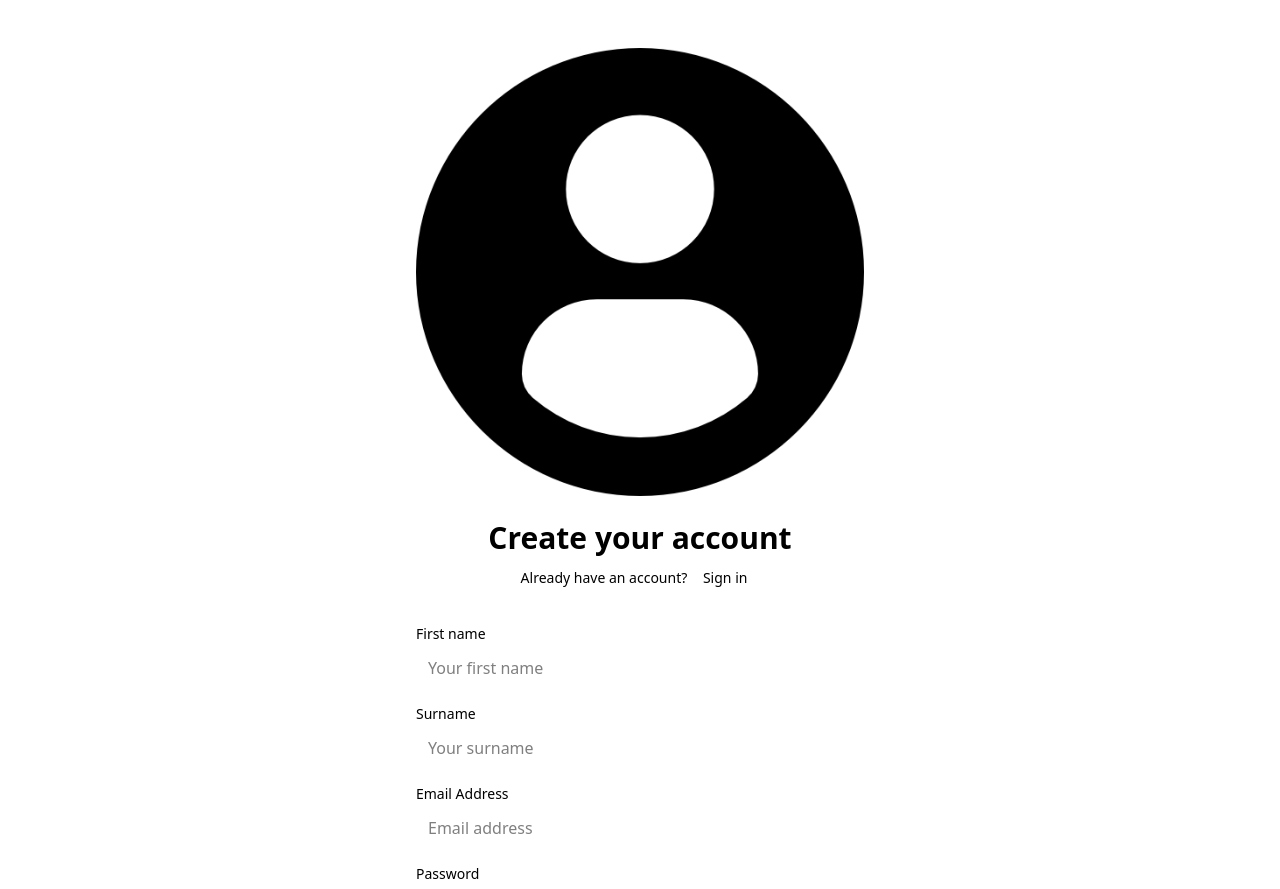
Auth page: sign-up › says the email could not be sent when email_queued is false
The width and height of the screenshot is (1280, 889).
Step 1. Type "Jo" into the field with id "first_name" → point(640, 668), box [416,648,864,688]
Step 2. Type "Smith" into the field labelled "Surname" → point(640, 748), box [416,728,864,768]
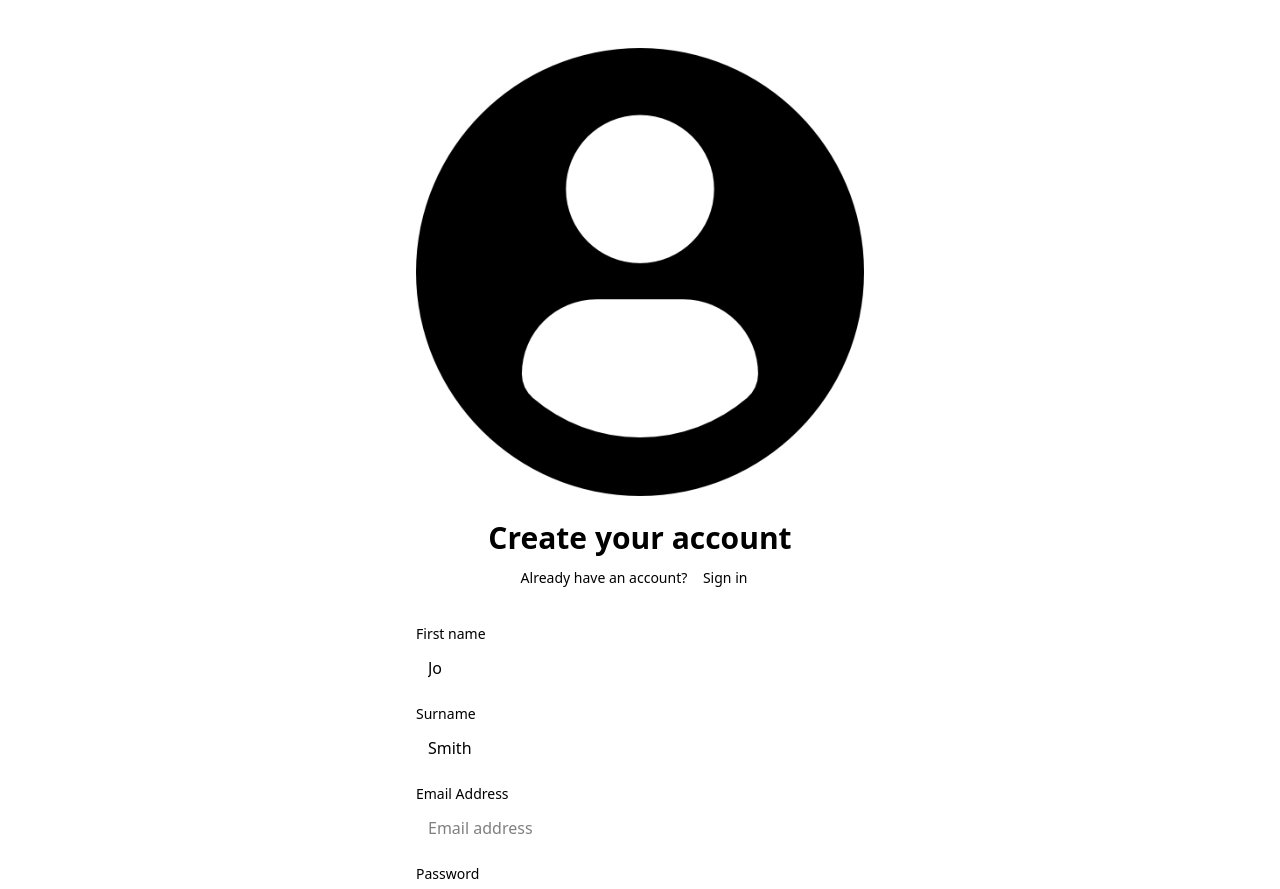
Step 3. Type "jo.smith@example.com" into the field with id "email" → point(640, 828), box [416,808,864,848]
(page scrolled)
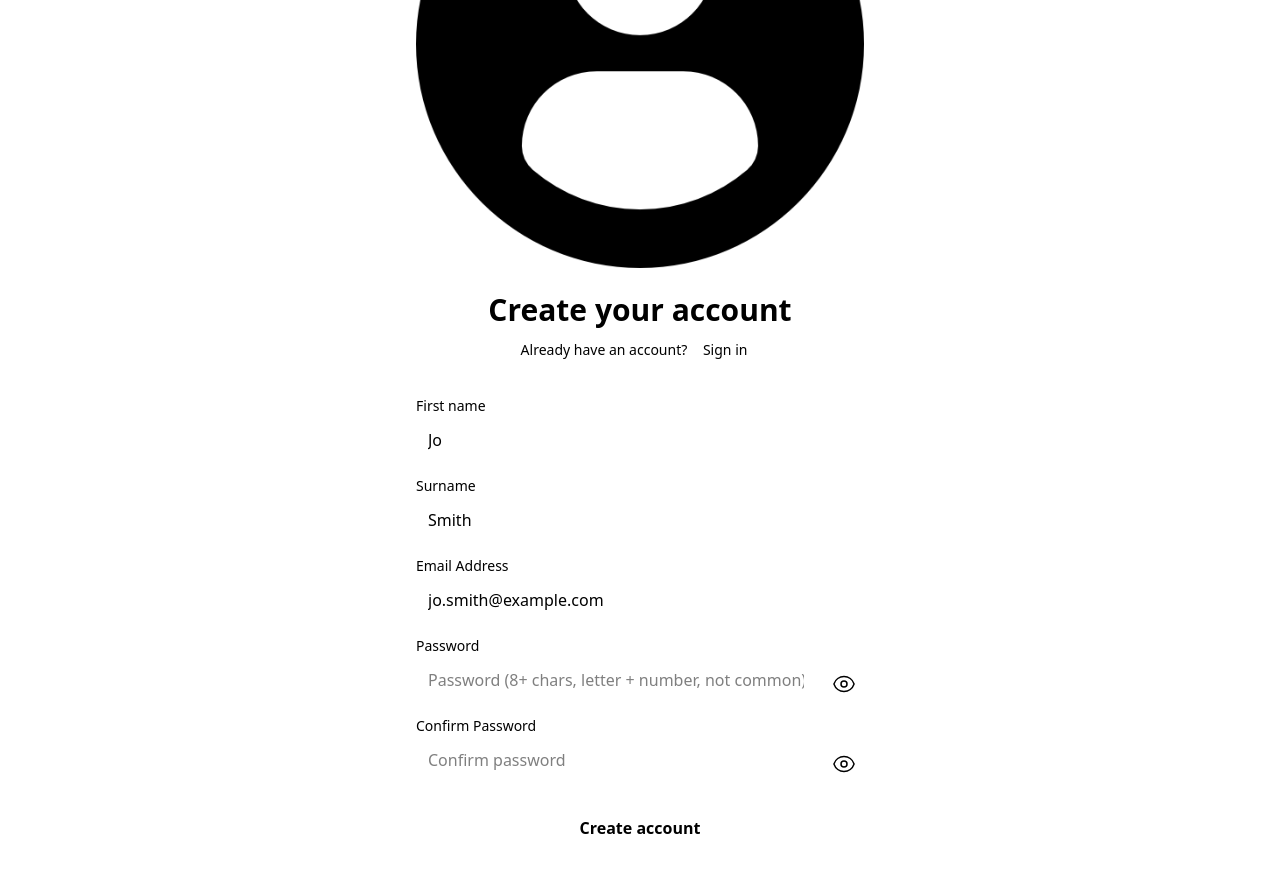
Step 4. Type "Passw0rd!x" into the password field labelled "Password" → point(616, 680), box [416,660,816,700]
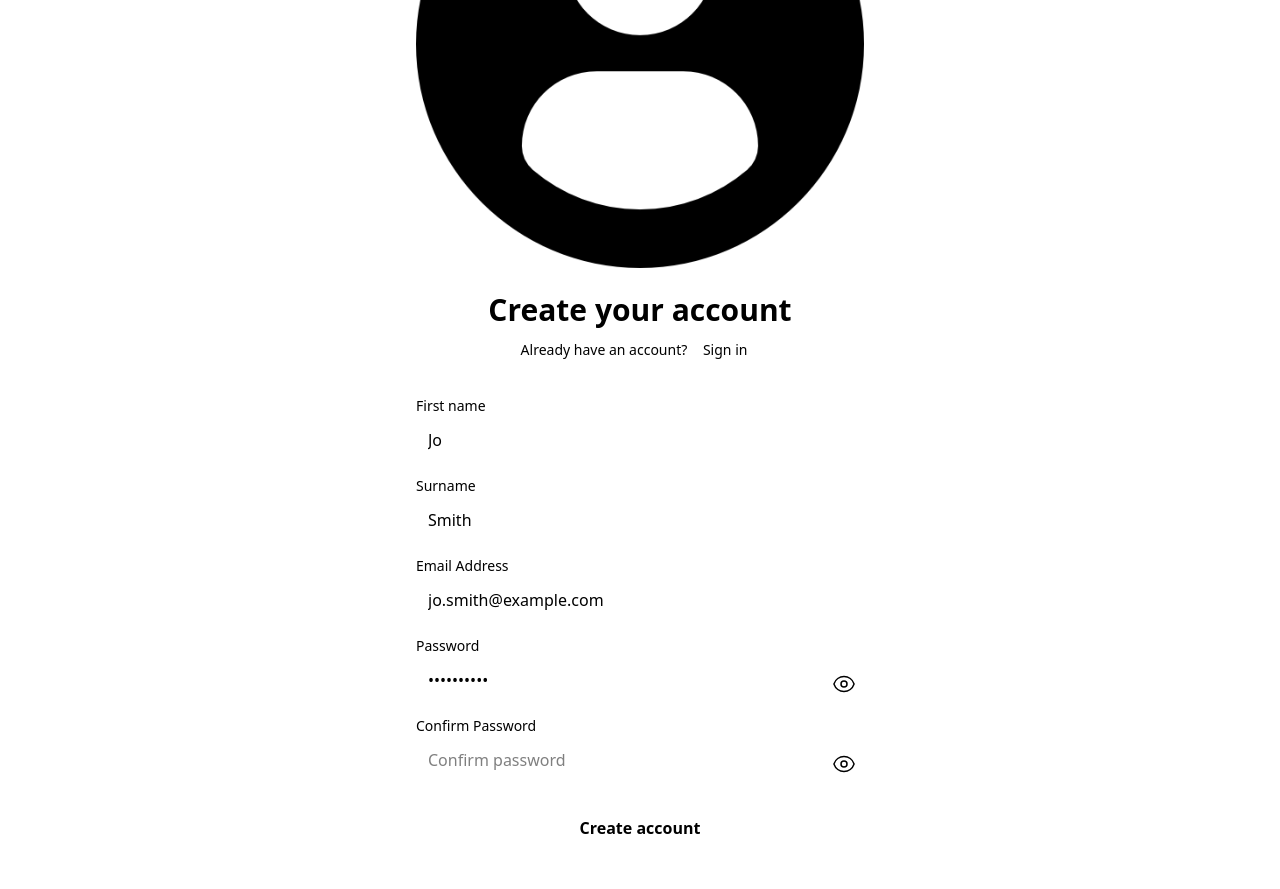
Step 5. Type "Passw0rd!x" into the password field with id "confirmPassword" → point(616, 760), box [416,740,816,780]
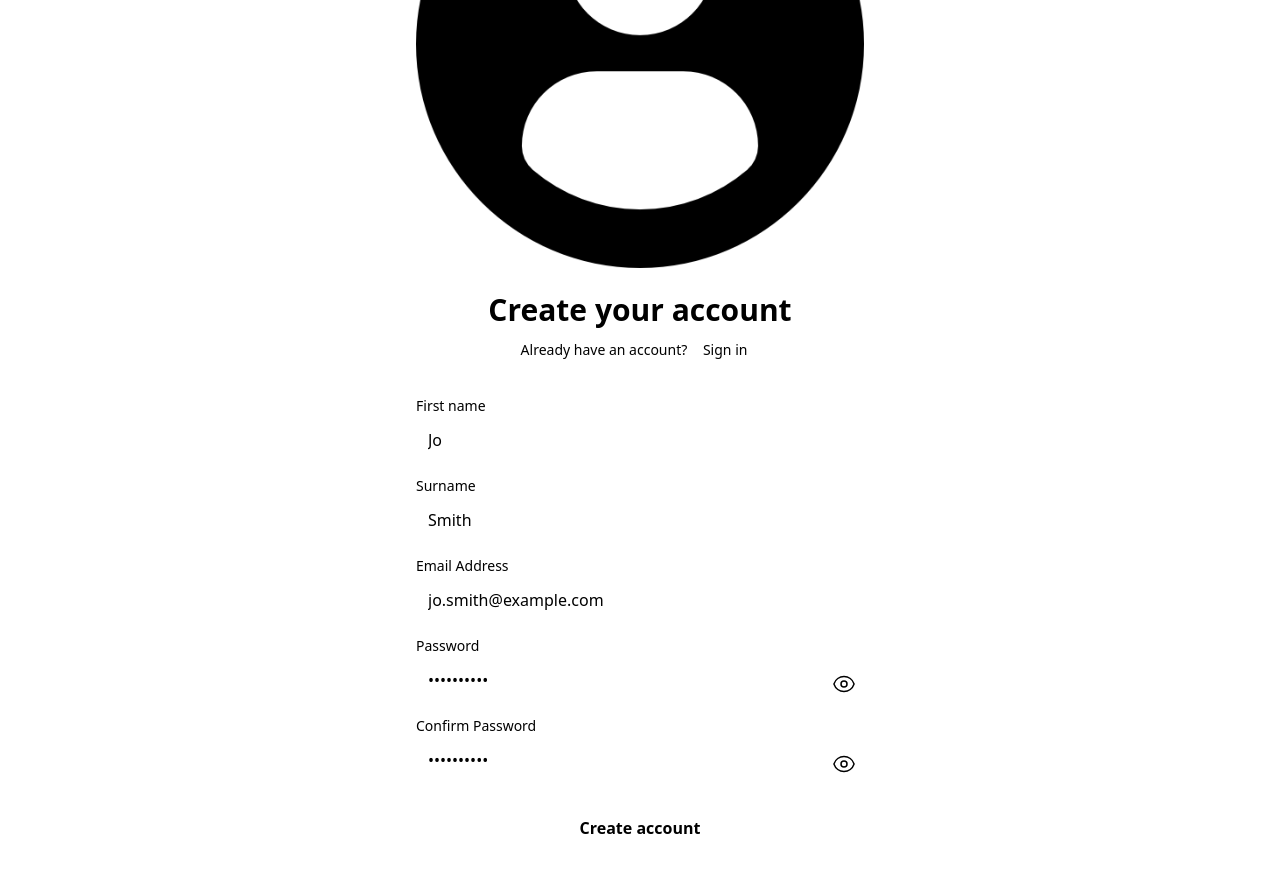
Step 6. Submit the form, box [416,396,864,852]
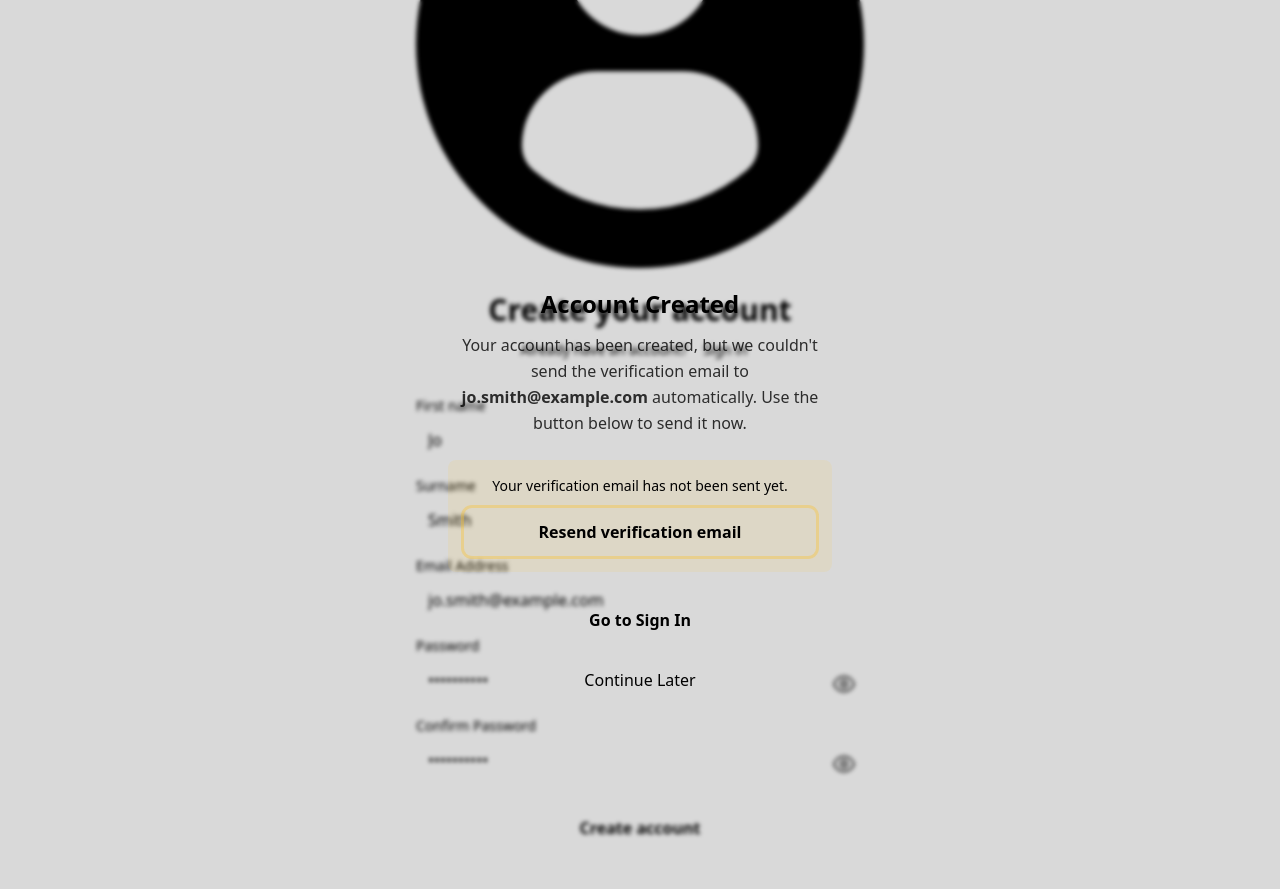
Check: the heading "Account Created" is shown, box [541,287,739,320]
Check: the text "couldn't send the verification email to" is shown, box [462,334,818,382]
Check: the button "Resend verification email" is enabled
Step 7. Click the button "Resend verification email" → point(640, 532), box [464,508,816,556]
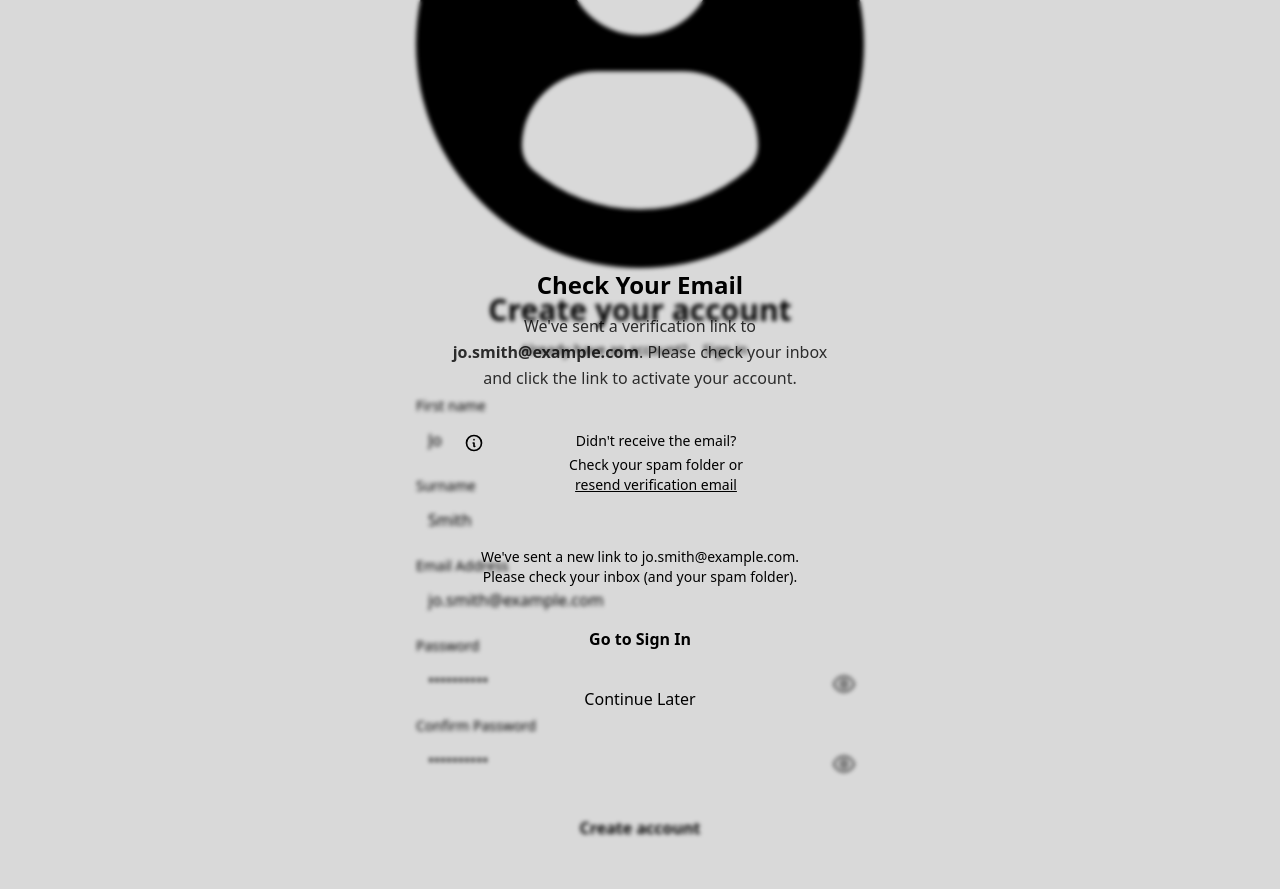
Check: the heading "Check Your Email" is shown, box [537,268,743,301]
